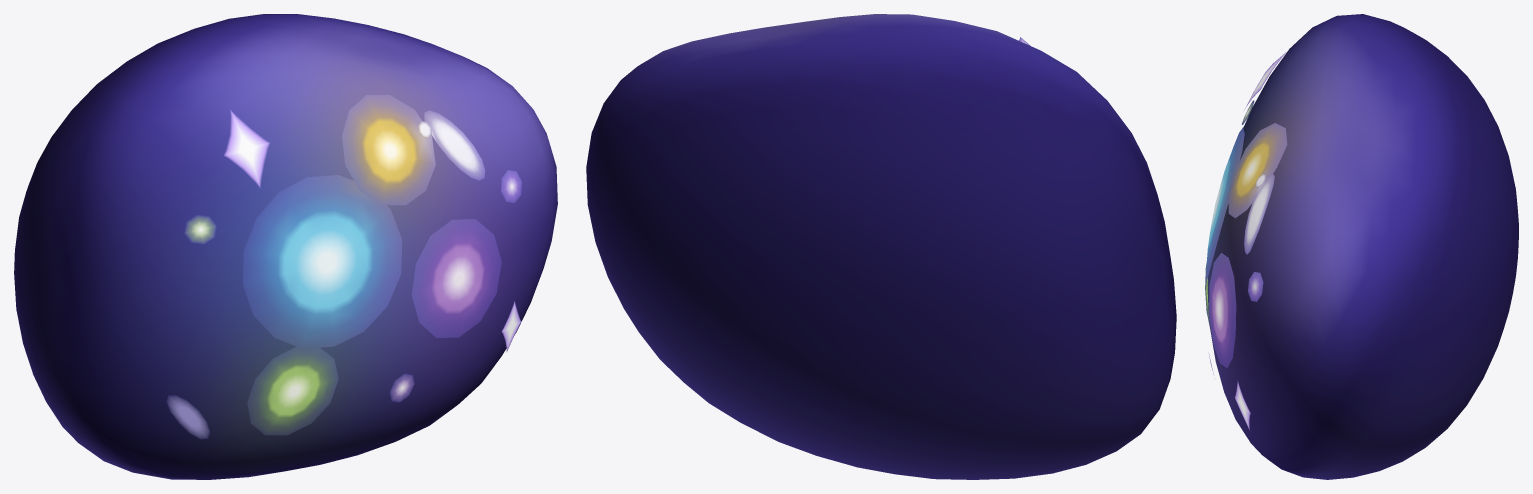
The model's file is Swarm_Stone.glb.
The picture shows the model from 3 angles, left to right: view 1: azimuth 30°, elevation 25°; view 2: azimuth 150°, elevation 25°; view 3: azimuth 270°, elevation 25°; orthographic projection. The views are drawn at different scales.
Visible parts, largest first — view 1: Swarm_Stone; view 2: Swarm_Stone; view 3: Swarm_Stone.
Part boxes in pixels (x1,y1,x2,y2): Swarm_Stone: (14, 14, 557, 479); Swarm_Stone: (586, 14, 1176, 479); Swarm_Stone: (1205, 14, 1518, 479).
Size of the model in its own units: 2.01 by 1.55 by 1.17.
